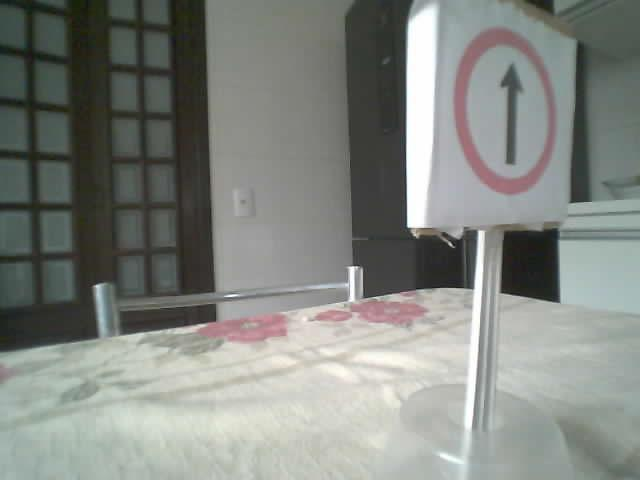R-26_frente: (451, 27, 554, 192)
